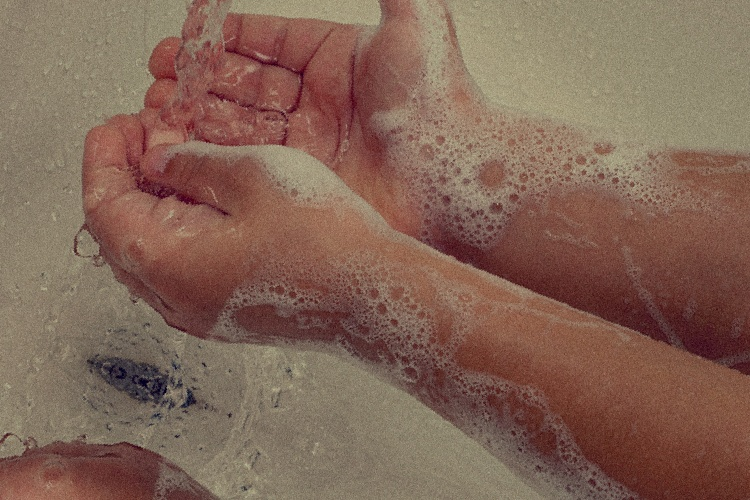washing hand: (0, 0, 702, 480)
